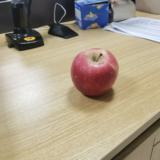apple: (70, 49, 120, 98)
